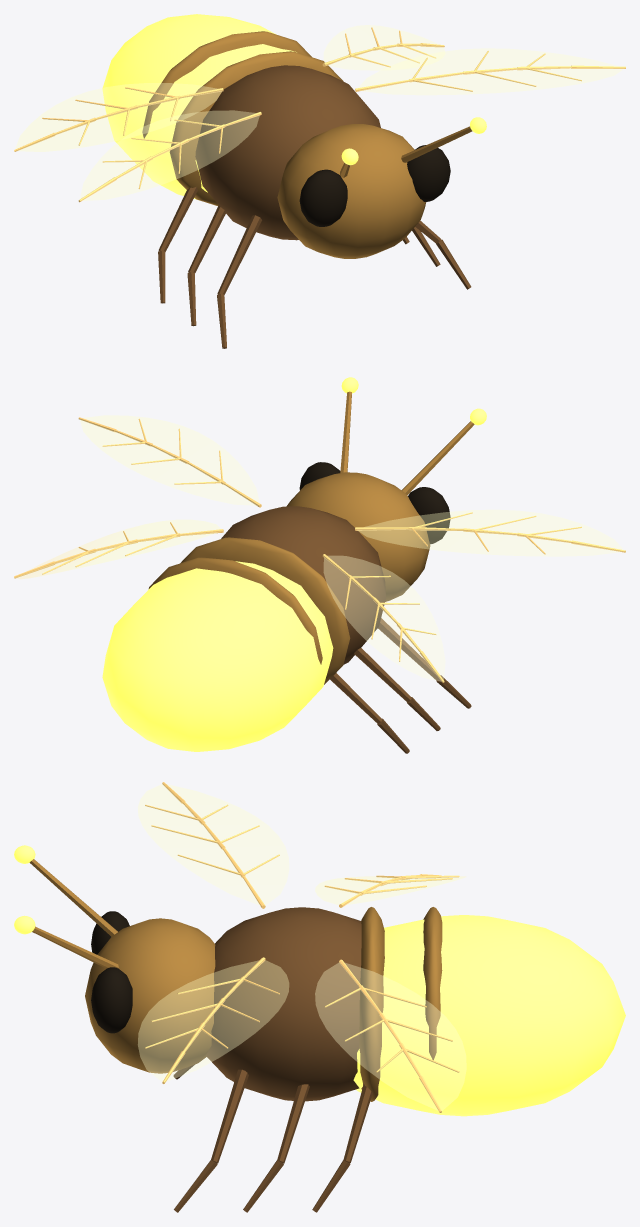
The model's file is firefly.glb.
3 views of the same model, one above another, from view 1: azimuth 30°, elevation 25°; view 2: azimuth 150°, elevation 25°; view 3: azimuth 270°, elevation 25° (orthographic). The views are drawn at different scales.
Parts seen in each view (by area): view 1: Body_Velvet chestnut, Body_Honey shell, Body_Living honey lantern, Membrane_LeftFore, Membrane_RightFore, Membrane_LeftHind, Body_Polished dark eyes, Membrane_RightHind, Veins_RightFore, Veins_LeftHind, Veins_LeftFore, Veins_RightHind; view 2: Body_Living honey lantern, Body_Honey shell, Body_Velvet chestnut, Membrane_RightFore, Membrane_LeftFore, Membrane_LeftHind, Membrane_RightHind, Body_Polished dark eyes, Veins_LeftFore, Veins_RightFore, Veins_RightHind, Veins_LeftHind; view 3: Body_Living honey lantern, Body_Velvet chestnut, Body_Honey shell, Membrane_RightHind, Membrane_RightFore, Membrane_LeftFore, Body_Polished dark eyes, Membrane_LeftHind, Veins_RightHind, Veins_RightFore, Veins_LeftFore, Veins_LeftHind.
Boxes of the visible parts, x1=… form: Body_Velvet chestnut: x1=158, y1=65, x2=471, y2=348; Body_Honey shell: x1=142, y1=31, x2=472, y2=258; Body_Living honey lantern: x1=102, y1=14, x2=486, y2=199; Membrane_LeftFore: x1=80, y1=110, x2=259, y2=200; Membrane_RightFore: x1=358, y1=48, x2=624, y2=94; Membrane_LeftHind: x1=15, y1=83, x2=221, y2=151; Body_Polished dark eyes: x1=299, y1=145, x2=450, y2=226; Membrane_RightHind: x1=324, y1=25, x2=444, y2=70; Veins_RightFore: x1=355, y1=51, x2=625, y2=91; Veins_LeftHind: x1=14, y1=87, x2=223, y2=151; Veins_LeftFore: x1=78, y1=112, x2=261, y2=202; Veins_RightHind: x1=322, y1=27, x2=444, y2=67; Body_Living honey lantern: x1=102, y1=377, x2=486, y2=751; Body_Honey shell: x1=148, y1=391, x2=474, y2=684; Body_Velvet chestnut: x1=221, y1=506, x2=471, y2=753; Membrane_RightFore: x1=80, y1=415, x2=259, y2=505; Membrane_LeftFore: x1=357, y1=510, x2=623, y2=556; Membrane_LeftHind: x1=323, y1=556, x2=445, y2=681; Membrane_RightHind: x1=15, y1=520, x2=220, y2=578; Body_Polished dark eyes: x1=299, y1=462, x2=450, y2=544; Veins_LeftFore: x1=355, y1=512, x2=625, y2=554; Veins_RightFore: x1=78, y1=417, x2=261, y2=507; Veins_RightHind: x1=14, y1=522, x2=223, y2=578; Veins_LeftHind: x1=322, y1=554, x2=444, y2=682; Body_Living honey lantern: x1=14, y1=845, x2=625, y2=1116; Body_Velvet chestnut: x1=173, y1=907, x2=372, y2=1212; Body_Honey shell: x1=29, y1=859, x2=442, y2=1101; Membrane_RightHind: x1=315, y1=962, x2=466, y2=1110; Membrane_RightFore: x1=138, y1=960, x2=288, y2=1081; Membrane_LeftFore: x1=138, y1=784, x2=288, y2=905; Body_Polished dark eyes: x1=91, y1=911, x2=132, y2=1033; Membrane_LeftHind: x1=315, y1=876, x2=465, y2=904; Veins_RightHind: x1=324, y1=959, x2=459, y2=1112; Veins_RightFore: x1=145, y1=957, x2=279, y2=1083; Veins_LeftFore: x1=145, y1=782, x2=279, y2=908; Veins_LeftHind: x1=324, y1=874, x2=459, y2=907.
Bounding box in the file's own units: 0.4606 × 0.1893 × 0.397.
